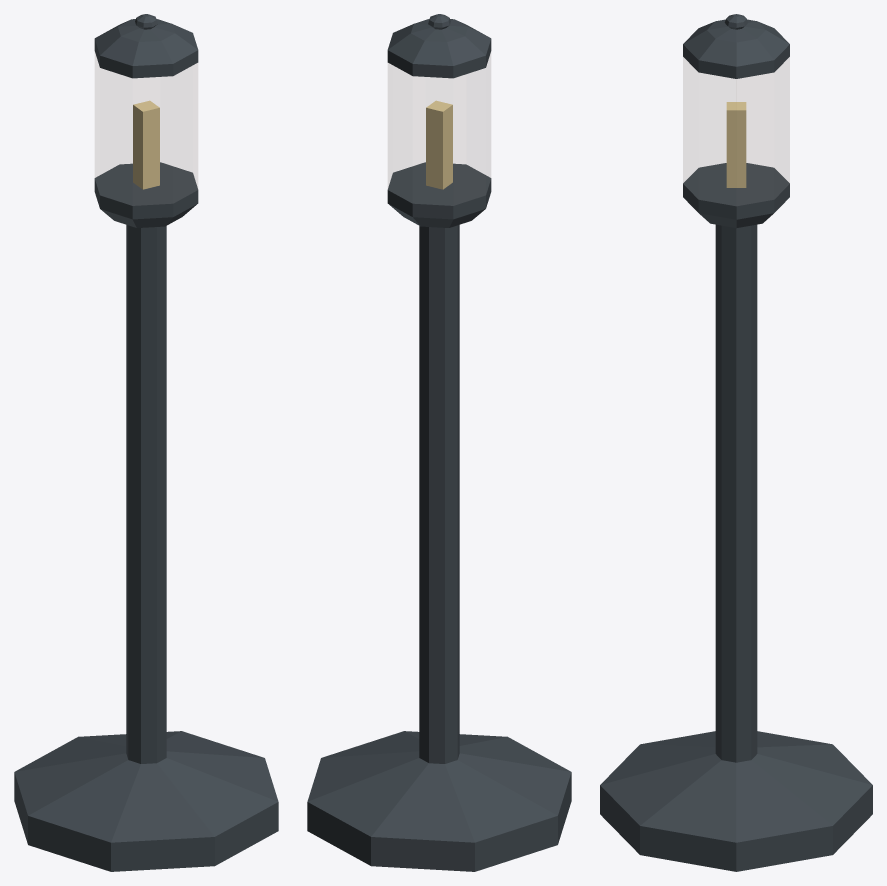
The model's file is lamp.fbx.
3 views of the same model, side by side, from view 1: azimuth 30°, elevation 25°; view 2: azimuth 150°, elevation 25°; view 3: azimuth 270°, elevation 25° (orthographic).
Parts seen in each view (by area): view 1: Cylinder, Cube; view 2: Cylinder, Cube; view 3: Cylinder, Cube.
Boxes of the visible parts, x1,y1,x2,y2 form: Cylinder: (14,14,278,871); Cube: (133,100,159,189); Cylinder: (307,14,571,871); Cube: (426,100,452,189); Cylinder: (600,14,872,871); Cube: (726,102,746,187).
Bounding box in the file's own units: 200 × 646 × 200.
